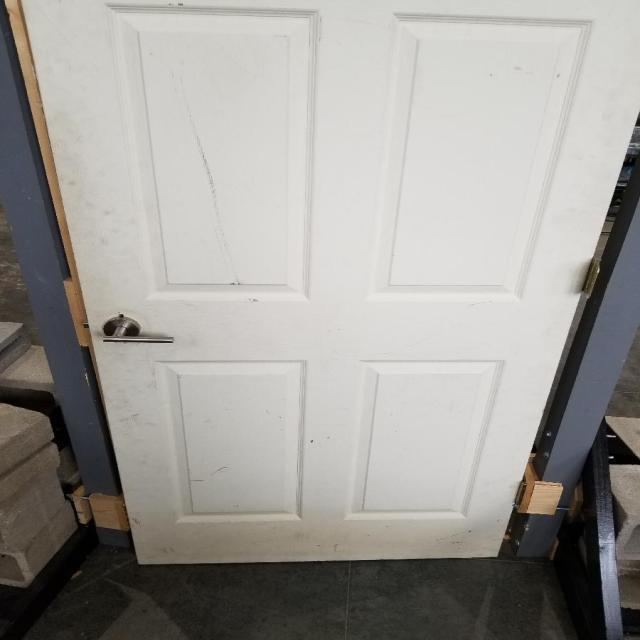door: (97, 312, 180, 350)
